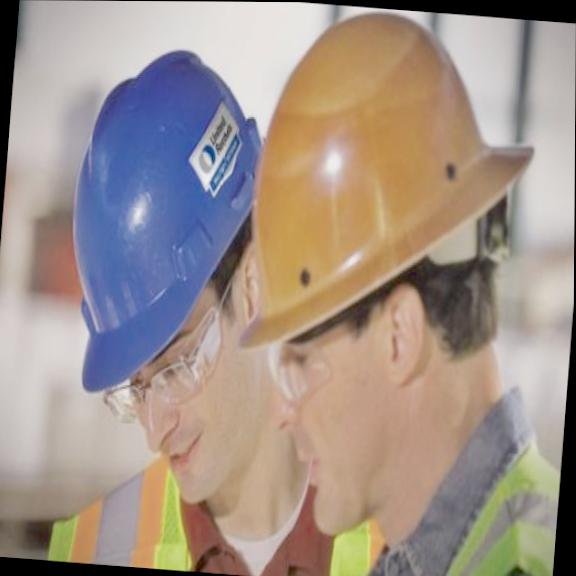safety_vest: (37, 442, 389, 576), (437, 424, 563, 576)
